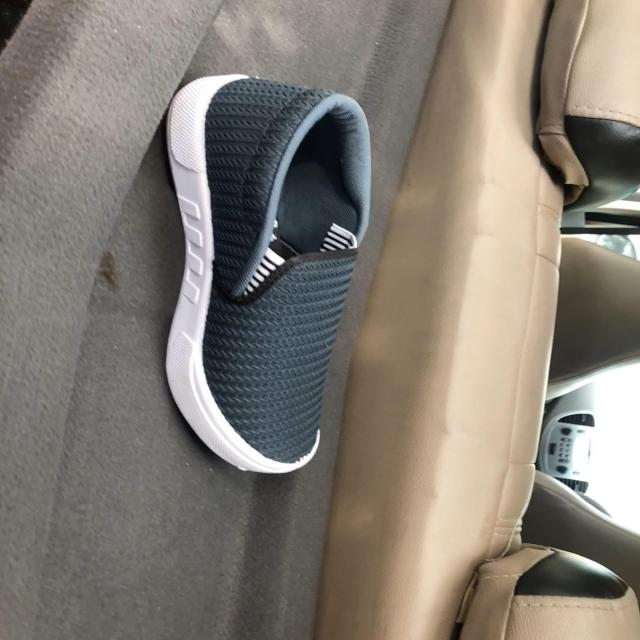shoe: (164, 75, 373, 477)
